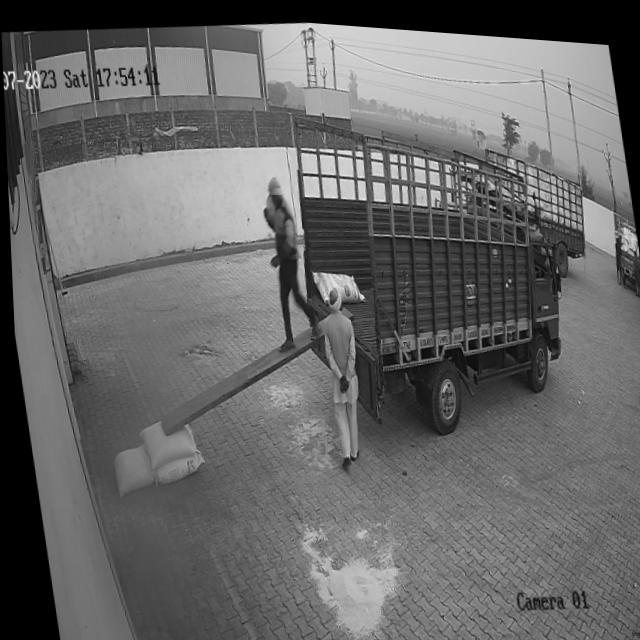sack: (134, 414, 195, 469), (105, 440, 151, 496), (309, 261, 363, 304), (147, 444, 201, 483)
